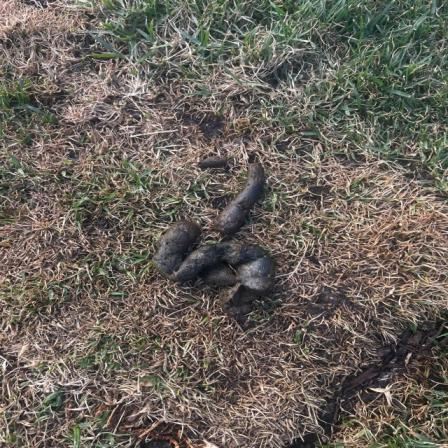dog-poop: (164, 152, 277, 311)
